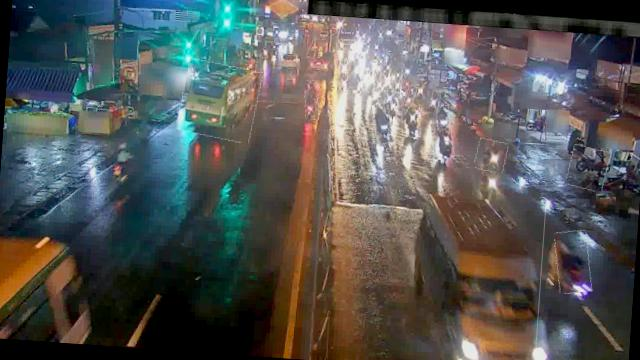Bike: (553, 229, 593, 294), (566, 144, 609, 190), (474, 138, 506, 172), (428, 121, 454, 160), (370, 102, 394, 144), (399, 104, 422, 138), (303, 79, 320, 119), (434, 104, 450, 131), (404, 84, 416, 106), (428, 90, 439, 113), (416, 78, 425, 100), (386, 87, 394, 108)
Bus: (416, 192, 545, 360), (178, 60, 262, 142)
